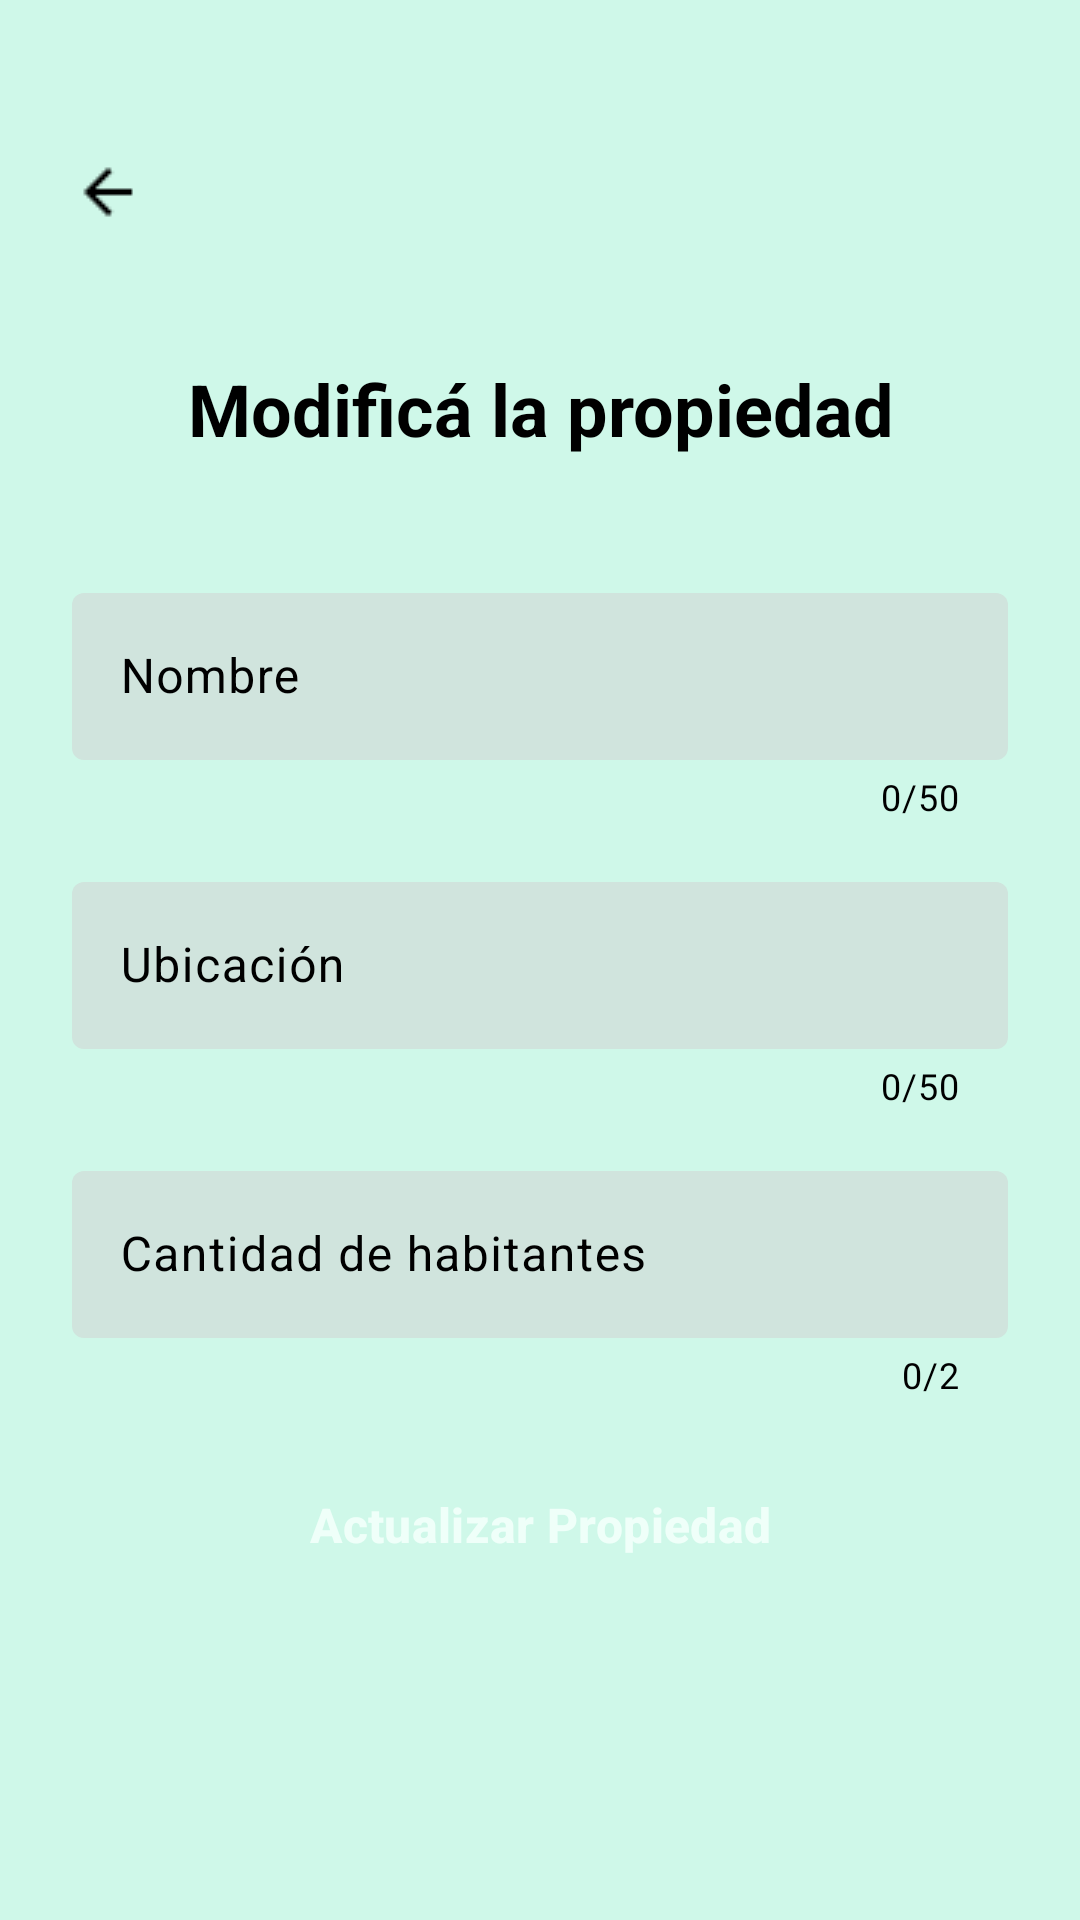

Icon bounding boxes for this 1080x1920 phone screenshot, format [x1, y1, x2, y2]:
volver: [83, 167, 133, 217]
